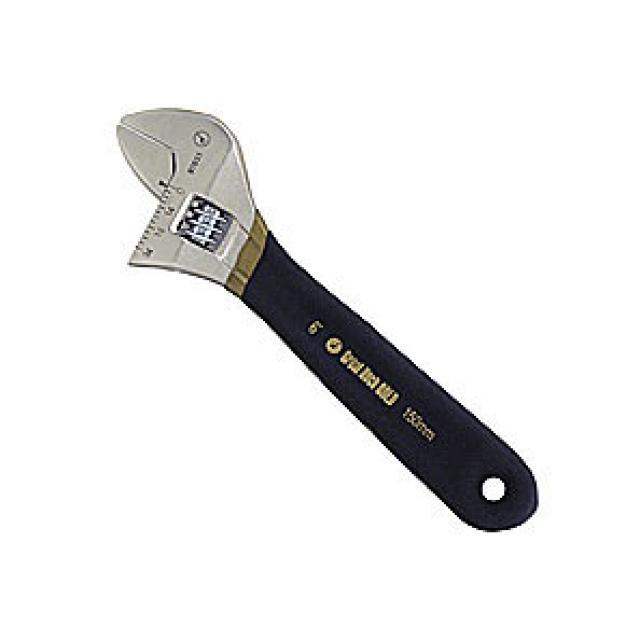wrench: (105, 99, 548, 537)
